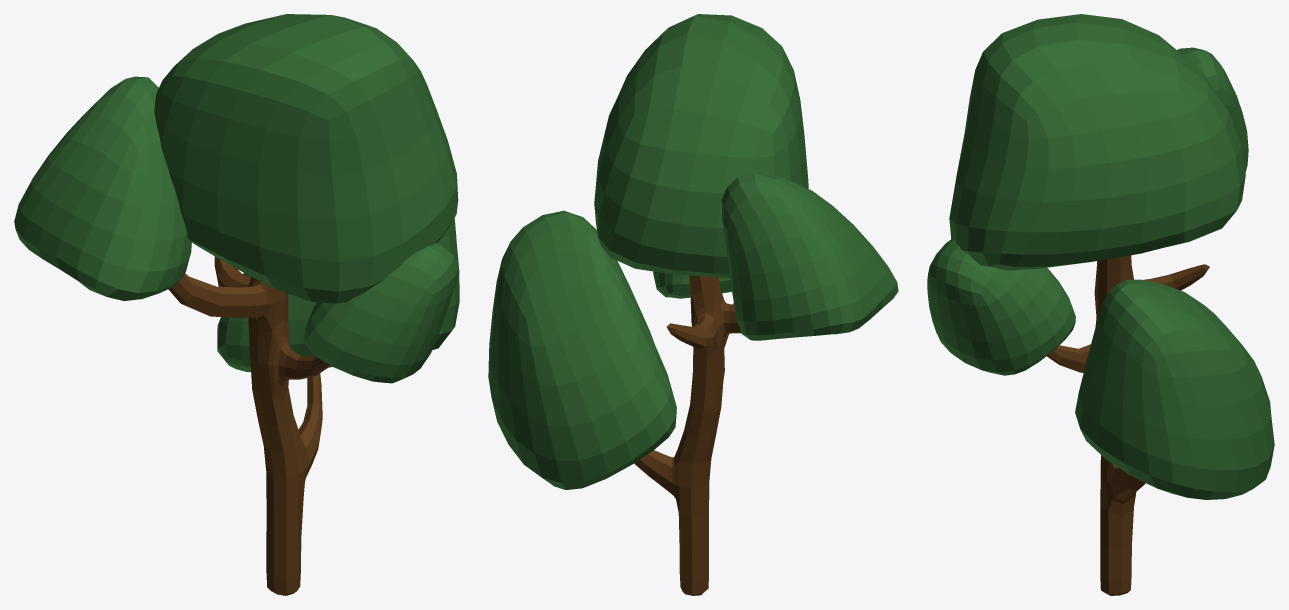
The model's file is Tree Type 4.fbx.
3 views of the same model, side by side, from view 1: azimuth 30°, elevation 25°; view 2: azimuth 150°, elevation 25°; view 3: azimuth 270°, elevation 25° (orthographic). The views are drawn at different scales.
Visible parts, largest first — view 1: Cube.078; view 2: Cube.078; view 3: Cube.078.
Part boxes in pixels (<box>): Cube.078: <box>14,14,459,595</box>; Cube.078: <box>488,14,898,595</box>; Cube.078: <box>927,14,1274,595</box>.
Size of the model in its own units: 896 by 1217 by 678.
